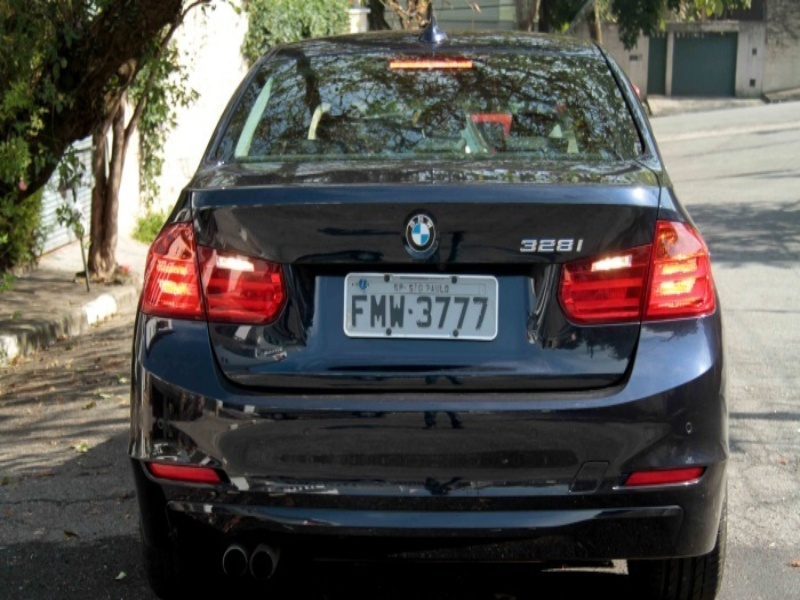placa: (342, 268, 501, 345)
